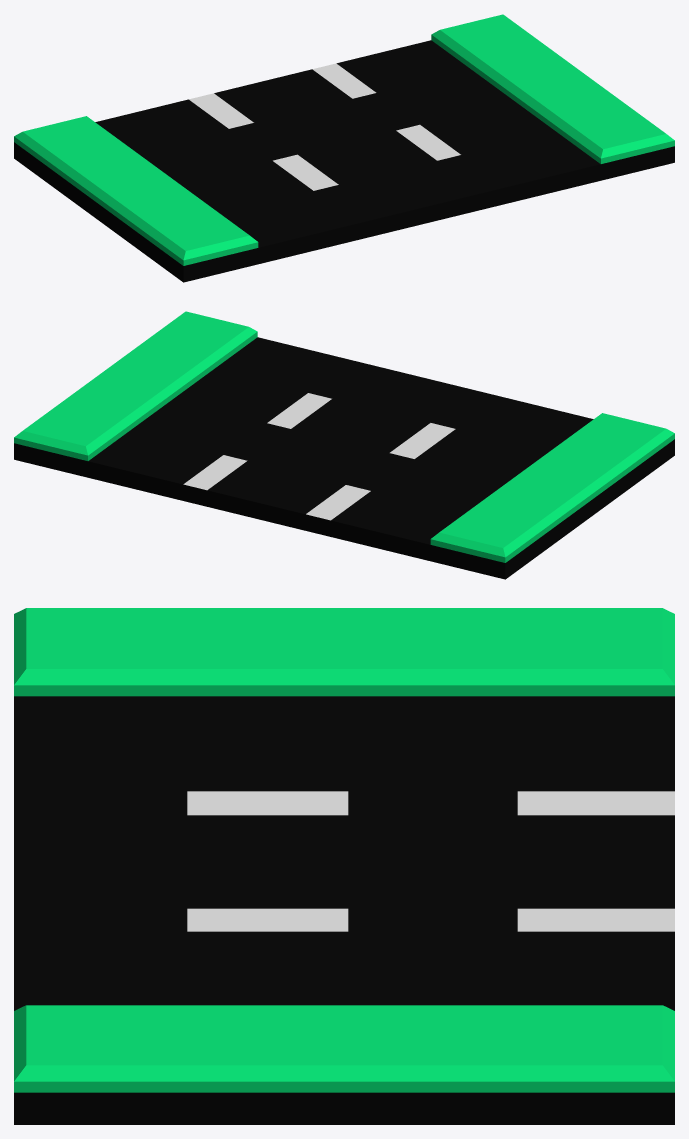
Rendered from Road2.1.fbx.
3 views of the same model, one above another, from view 1: azimuth 30°, elevation 25°; view 2: azimuth 150°, elevation 25°; view 3: azimuth 270°, elevation 25° (orthographic). The views are drawn at different scales.
Visible parts, largest first — view 1: pCube1; view 2: pCube1; view 3: pCube1.
Part boxes in pixels (bbox=[...]): pCube1: bbox=[14, 14, 674, 282]; pCube1: bbox=[14, 311, 674, 579]; pCube1: bbox=[14, 608, 674, 1124].
Bounding box in the file's own units: 1481 × 80.2 × 885.
